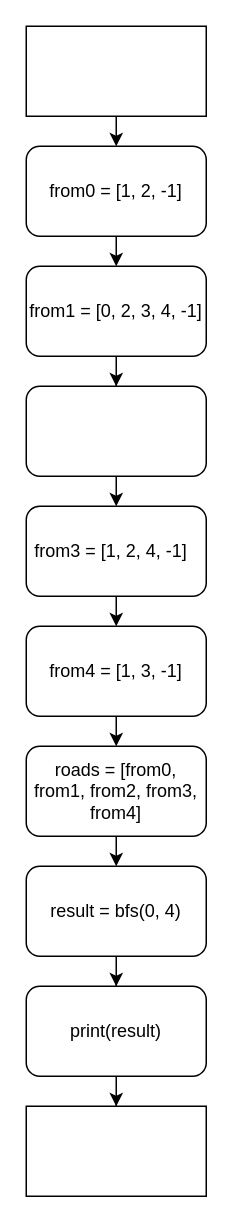
Some shapes in this 242 by 1223 pixel diagram are drawn without their labels. The centre of each missing label's shape, as x and y in pixels:
"from2 = [0, 1, 3, -1]" goes at point 115,430.
"終了" goes at point 115,1150.
"開始" goes at point 115,70.
